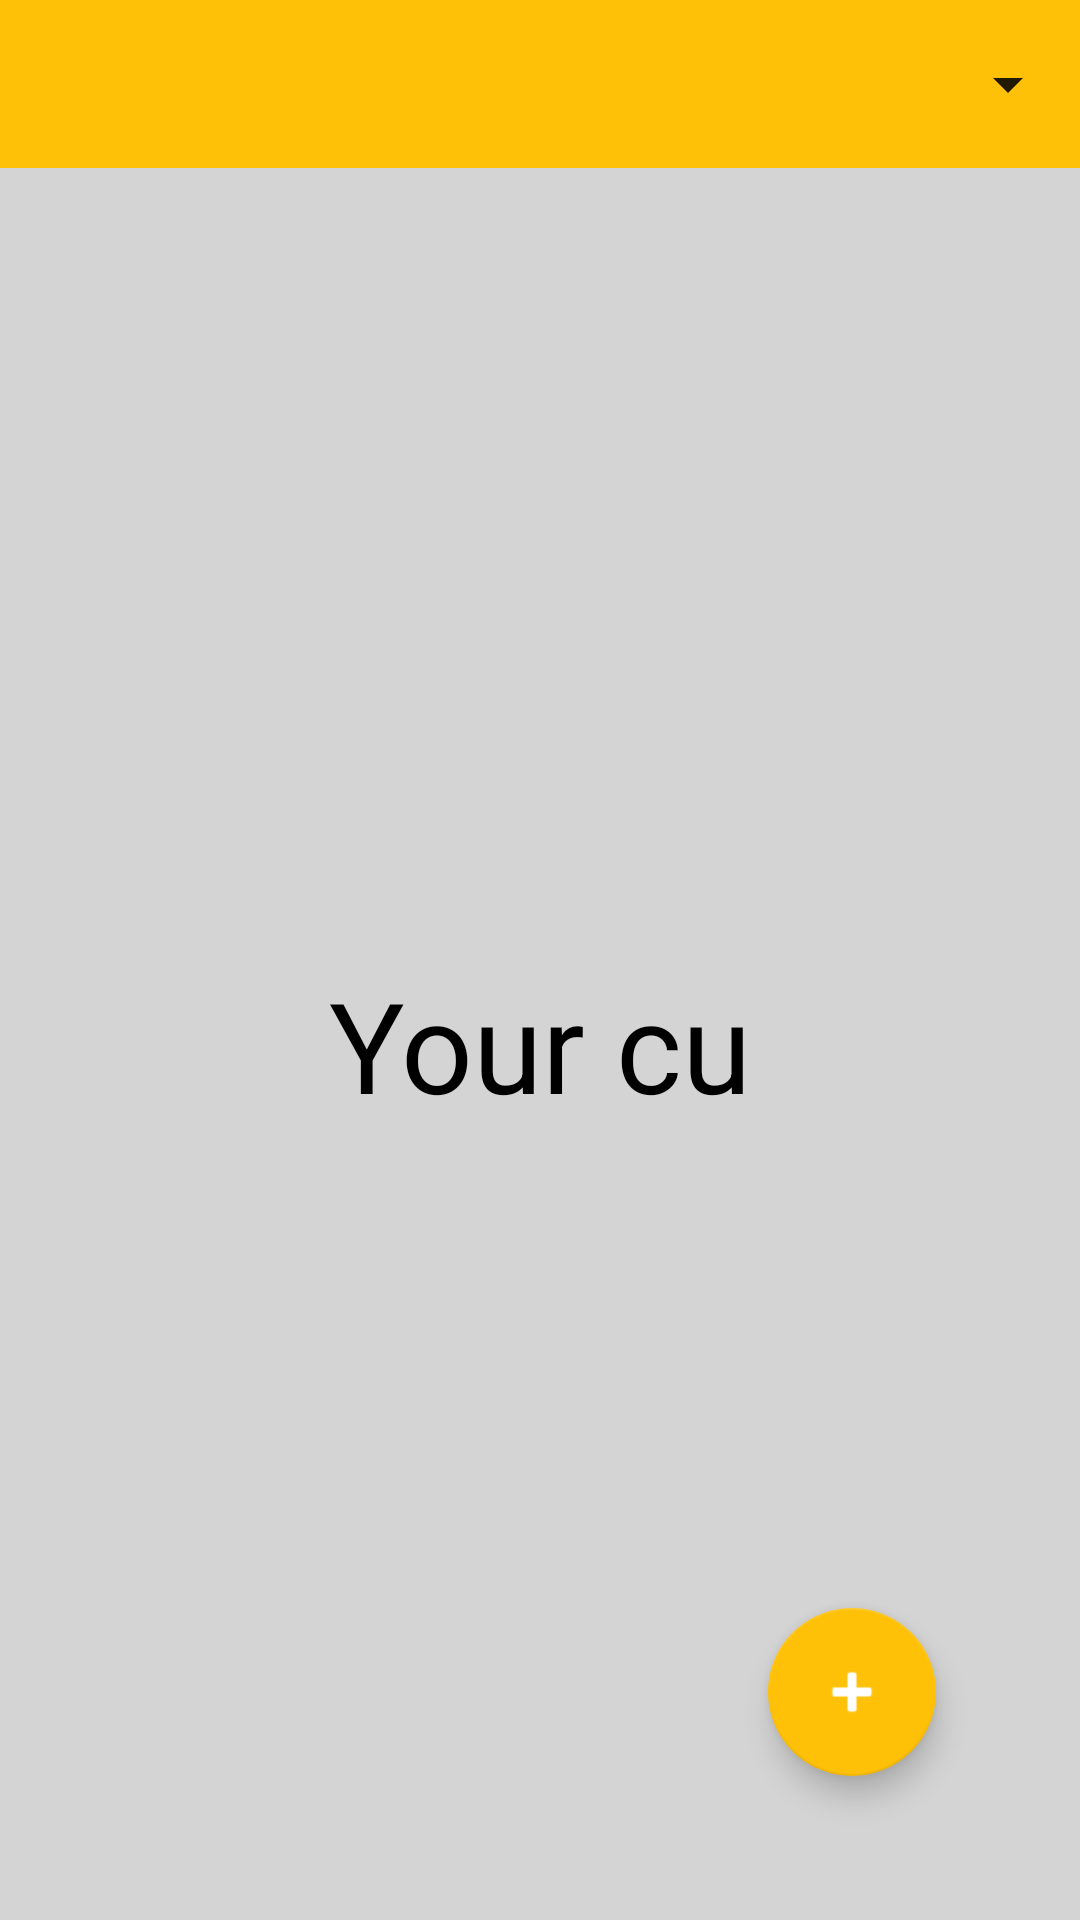

Locate icon controls on the screen. Image size 1080px×1920px, boxes as (x1=x1, y1=y1, x2=x2, y2=y2).
add: (x1=768, y1=1608, x2=936, y2=1776)
